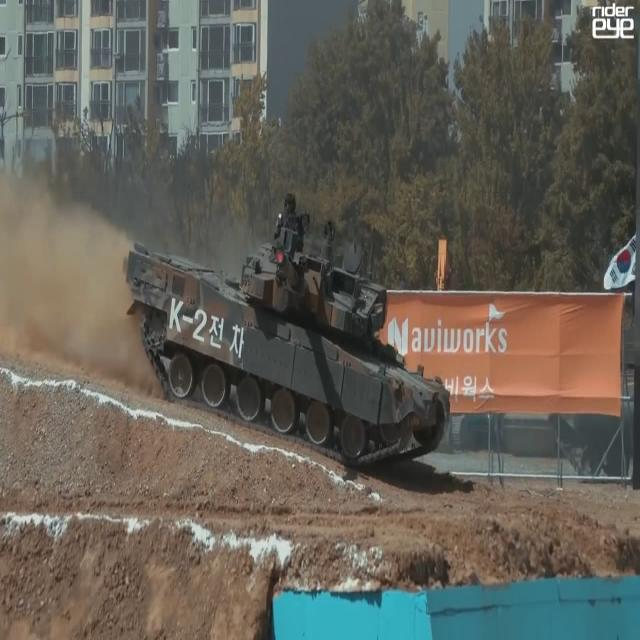korea tank: (120, 190, 452, 468)
